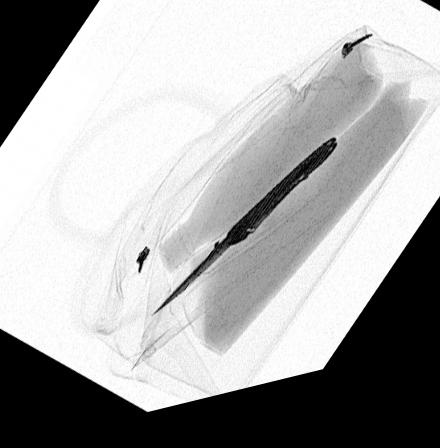Knife: (149, 153, 337, 322)
